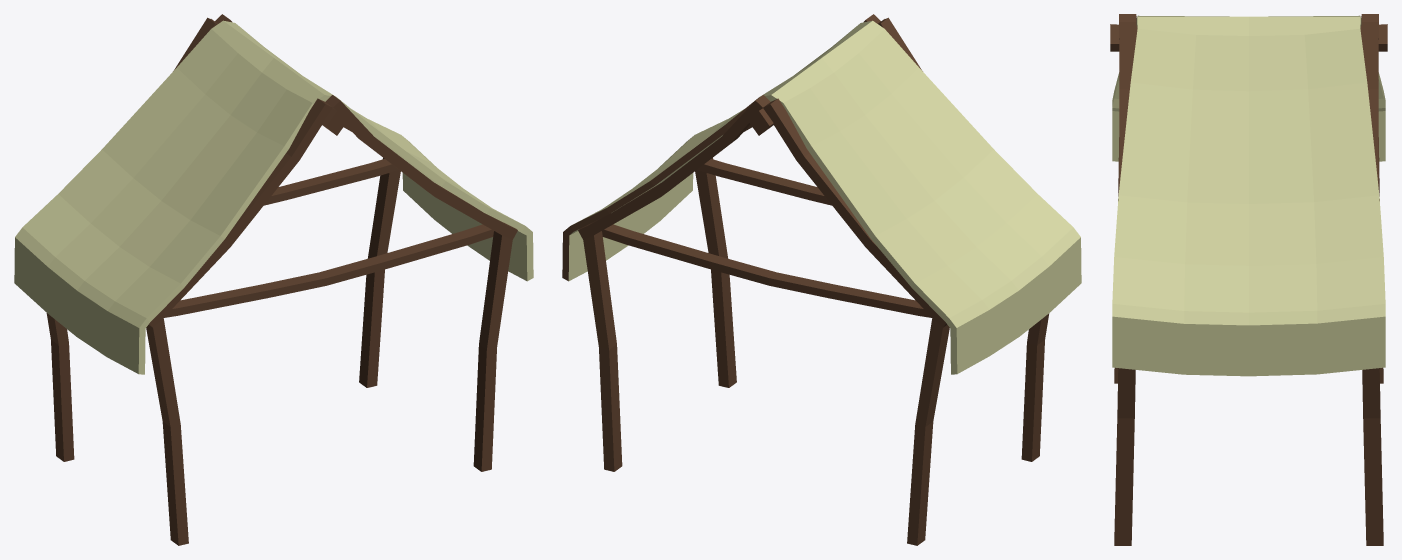
File: basic_home_tent.fbx
3 renders of one model, left to right at view 1: azimuth 30°, elevation 25°; view 2: azimuth 150°, elevation 25°; view 3: azimuth 270°, elevation 25°, orthographic. The views are drawn at different scales.
Visible parts, largest first — view 1: Cube; view 2: Cube; view 3: Cube.
Part boxes in pixels (<box>): Cube: <box>14,14,533,545</box>; Cube: <box>562,14,1081,545</box>; Cube: <box>1110,14,1387,545</box>.
Size of the model in its own units: 1855 by 1818 by 1027.
